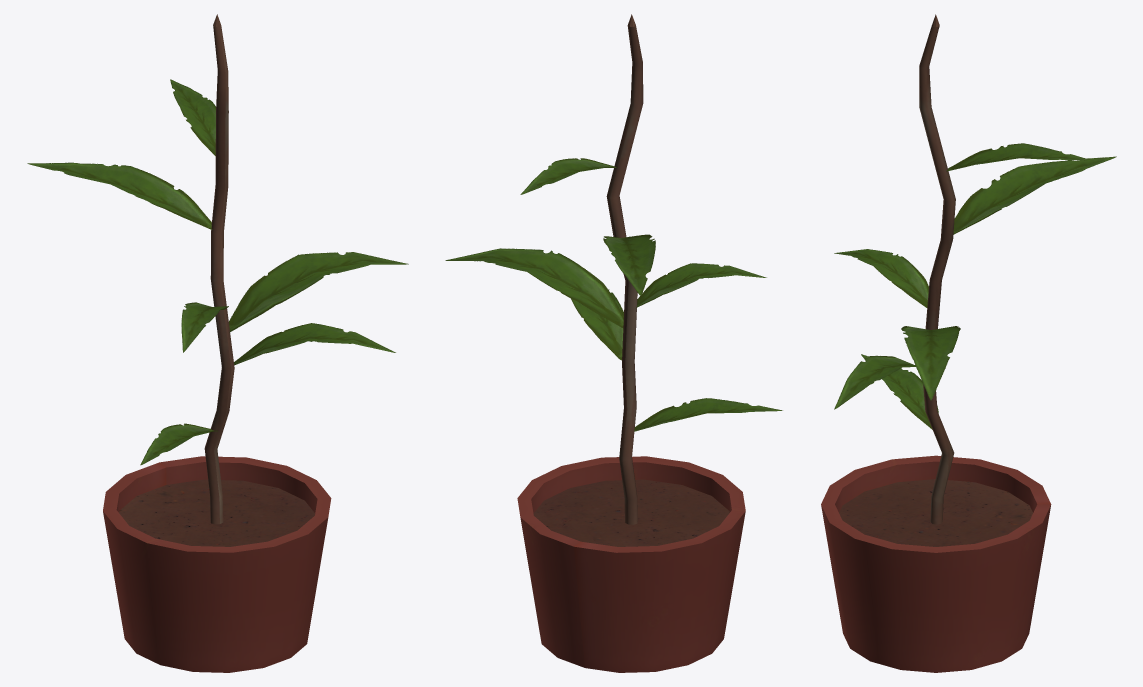
Rendered from Plant.fbx.
3 views of the same model, side by side, from view 1: azimuth 30°, elevation 25°; view 2: azimuth 150°, elevation 25°; view 3: azimuth 270°, elevation 25° (orthographic).
Visible parts, largest first — view 1: Plant, Plane001, Plane004, Plane002, Plane005, Plane007, Plane006; view 2: Plant, Plane001, Plane004, Plane006, Plane007, Plane002, Plane005; view 3: Plant, Plane004, Plane001, Plane006, Plane005, Plane002, Plane007.
Part boxes in pixels (bbox=[...]): Plant: bbox=[103, 14, 331, 672]; Plane001: bbox=[229, 252, 408, 332]; Plane004: bbox=[27, 162, 212, 229]; Plane002: bbox=[234, 323, 395, 365]; Plane005: bbox=[170, 79, 215, 155]; Plane007: bbox=[140, 423, 217, 465]; Plane006: bbox=[181, 302, 228, 352]; Plant: bbox=[517, 14, 745, 672]; Plane001: bbox=[445, 248, 623, 328]; Plane004: bbox=[603, 234, 655, 295]; Plane006: bbox=[636, 263, 766, 307]; Plane007: bbox=[634, 398, 782, 431]; Plane002: bbox=[571, 289, 623, 360]; Plane005: bbox=[520, 158, 617, 194]; Plant: bbox=[821, 14, 1051, 672]; Plane004: bbox=[953, 156, 1116, 234]; Plane001: bbox=[901, 326, 960, 400]; Plane006: bbox=[834, 249, 928, 307]; Plane005: bbox=[946, 143, 1093, 171]; Plane002: bbox=[834, 355, 915, 409]; Plane007: bbox=[861, 354, 938, 429].
Size of the model in its own units: 29.19 by 55.06 by 24.81.
